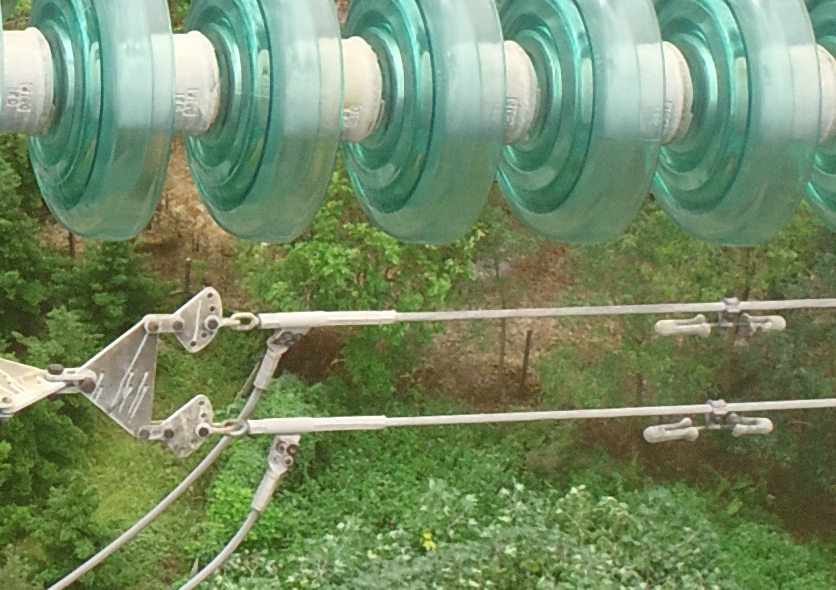damper: (638, 395, 777, 447), (650, 294, 789, 338)
